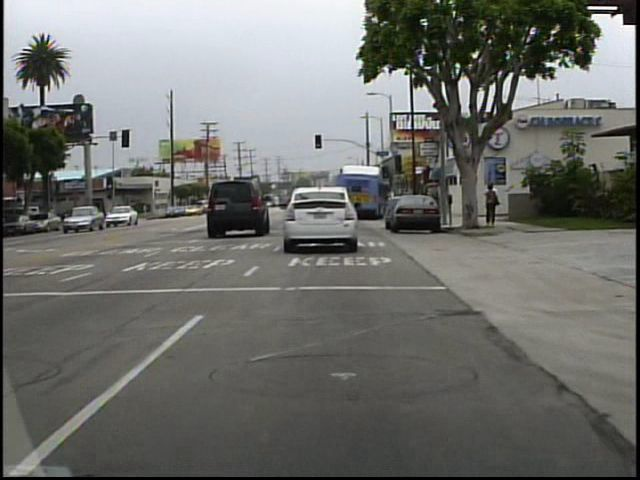person: (481, 181, 499, 227), (486, 182, 500, 224), (140, 199, 152, 220)
